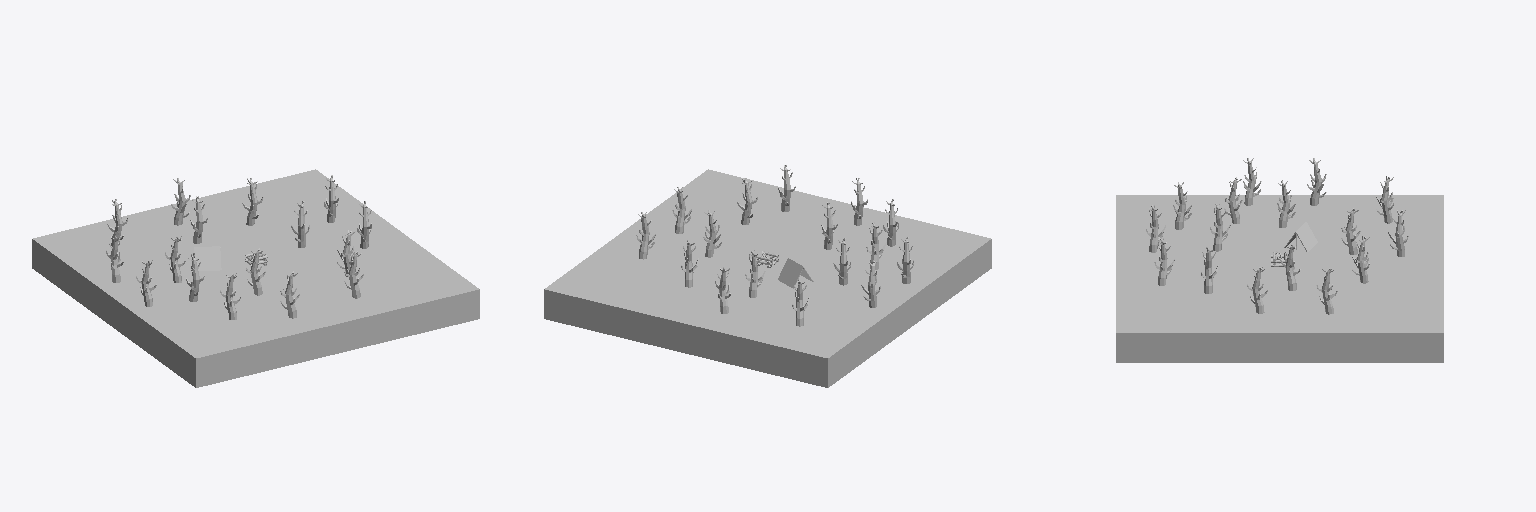
Rendered from micro_scene_001.obj.
3 views of the same model, side by side, from view 1: azimuth 30°, elevation 25°; view 2: azimuth 150°, elevation 25°; view 3: azimuth 270°, elevation 25° (orthographic).
Visible parts, largest first — view 1: Ground_Mesh, Tent_Mesh; view 2: Ground_Mesh; view 3: Ground_Mesh.
Part boxes in pixels (x1,y1,x2,y2): Ground_Mesh: (32, 169, 479, 387); Tent_Mesh: (193, 246, 221, 270); Ground_Mesh: (544, 169, 991, 387); Ground_Mesh: (1116, 195, 1443, 362).
Size of the model in its own units: 5 by 1.27 by 5.